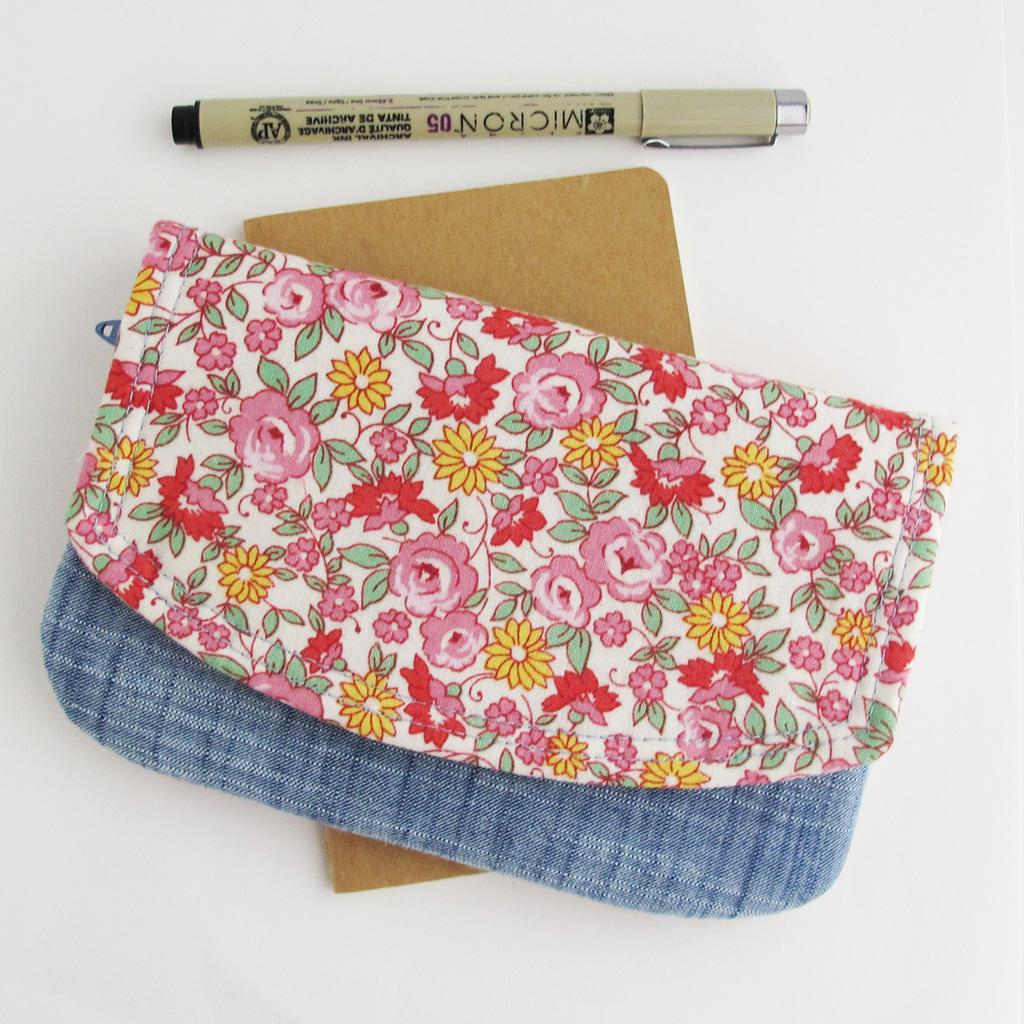pen: (159, 90, 815, 149)
